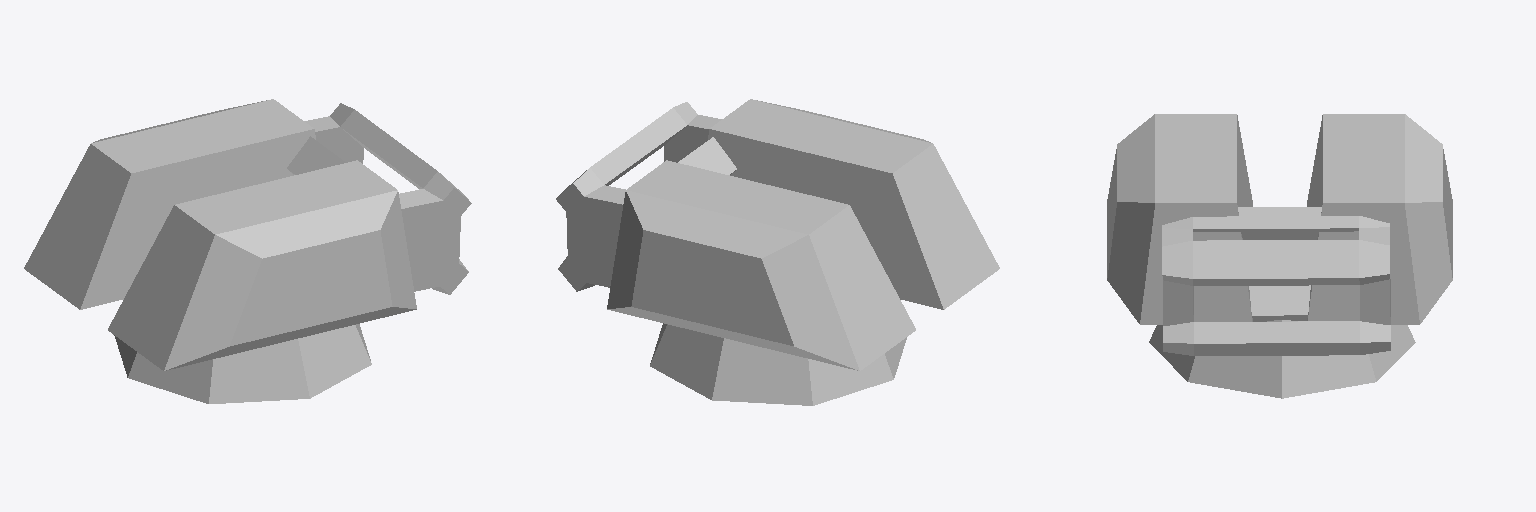
The model's file is turret.obj.
3 renders of one model, left to right at view 1: azimuth 30°, elevation 25°; view 2: azimuth 150°, elevation 25°; view 3: azimuth 270°, elevation 25°, orthographic.
Parts seen in each view (by area): view 1: cube1_sep10, cube1_sep9, cube1_sep22, cube1_sep11; view 2: cube1_sep9, cube1_sep10, cube1_sep11, cube1_sep22; view 3: cube1_sep22, cube1_sep9, cube1_sep10, cube1_sep11.
Part boxes in pixels (x1,y1,x2,y2): cube1_sep10: (108, 160, 416, 370); cube1_sep9: (24, 99, 315, 309); cube1_sep22: (287, 103, 471, 294); cube1_sep11: (114, 324, 371, 403); cube1_sep9: (607, 160, 915, 370); cube1_sep10: (708, 99, 999, 309); cube1_sep11: (650, 323, 906, 405); cube1_sep22: (556, 102, 736, 291); cube1_sep22: (1162, 207, 1390, 355); cube1_sep9: (1307, 114, 1452, 324); cube1_sep10: (1107, 114, 1252, 324); cube1_sep11: (1149, 320, 1415, 398).
Bounding box in the file's own units: 2.7 × 1.46 × 2.49.